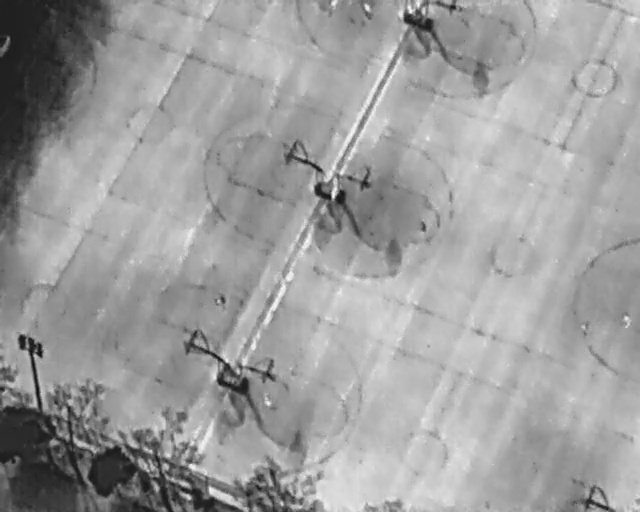Person: (620, 311, 631, 330)
